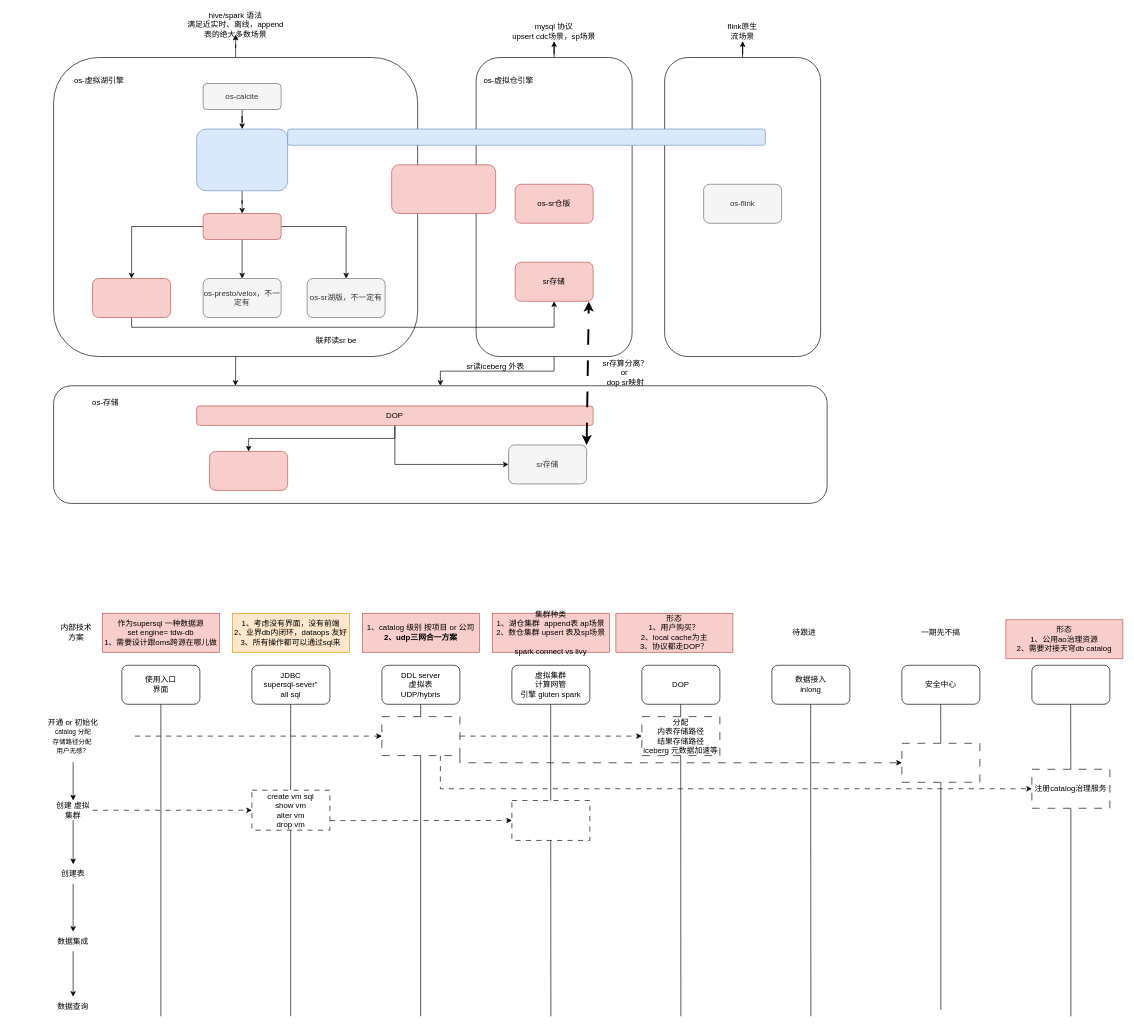
Image size: 1134x1028. Some labels were removed from this diagram. The shapes that lost their labels are listed below. From the top down, each one's centre as x and y in pixels, then its label:
At pixel 526 136: "引擎透明升级的可靠保证机制".
At pixel 242 159: "os-substrait os-ut 1、定义跨引擎标准语法及行为，test case保证，并且修正可跨引擎属性 2、各个引擎直接执行物理计划".
At pixel 443 189: "os-虚拟表 管理 湖表 仓表".
At pixel 241 226: "os-虚拟集群 manager".
At pixel 131 298: "os-gluten/spark 算子胶水+调度胶水".
At pixel 248 470: "iceberg/hdfs".
At pixel 1070 684: "AO及iceberg".
At pixel 420 736: "create catalog show catalog alter drop catalog".
At pixel 940 762: "注册ranger service catalog 级别 管理员权限注册".
At pixel 550 820: "api调用 对接峰峦 启动网关 启动mpp部分引擎".
